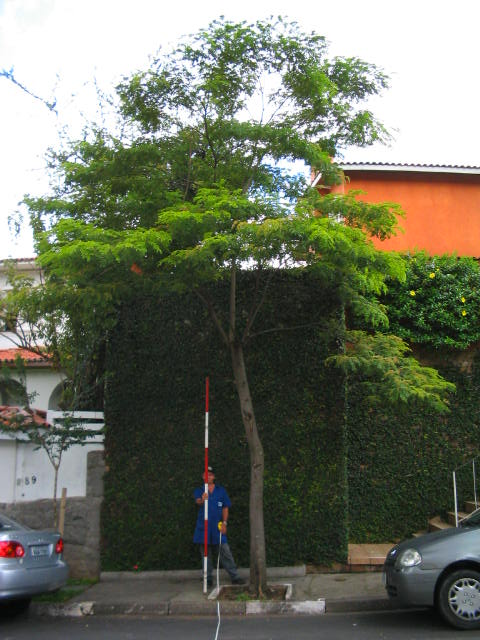crown: (20, 10, 453, 415)
stem: (217, 353, 285, 596)
stick: (192, 375, 216, 596)
tree: (18, 10, 454, 597)
